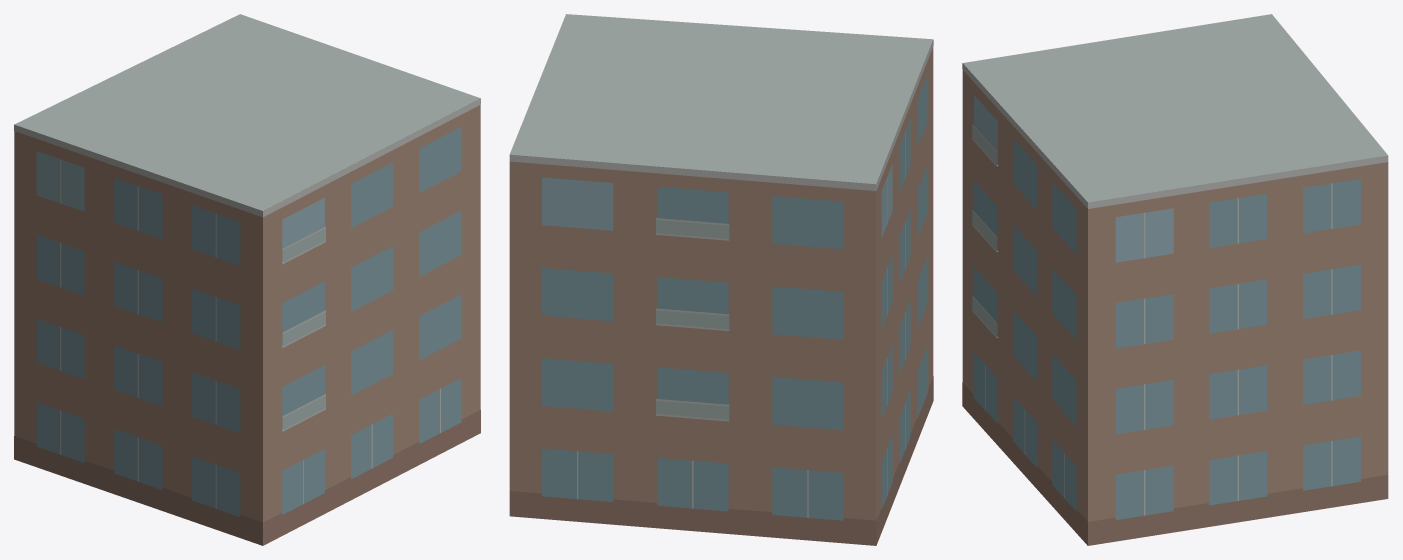
File: survey-upis-32936248.glb
3 views of the same model, side by side, from view 1: azimuth 30°, elevation 25°; view 2: azimuth 150°, elevation 25°; view 3: azimuth 270°, elevation 25° (orthographic). The views are drawn at different scales.
Parts seen in each view (by area): view 1: survey-upis-32936248.tmp; view 2: survey-upis-32936248.tmp; view 3: survey-upis-32936248.tmp.
Part boxes in pixels (x1,y1,x2,y2): survey-upis-32936248.tmp: (14, 14, 480, 545); survey-upis-32936248.tmp: (509, 14, 933, 545); survey-upis-32936248.tmp: (962, 14, 1388, 545).
Bounding box in the file's own units: 15.21 × 12.9 × 14.51.
